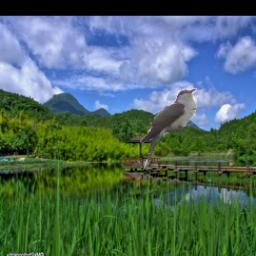Cuckoo: (140, 89, 197, 171)
